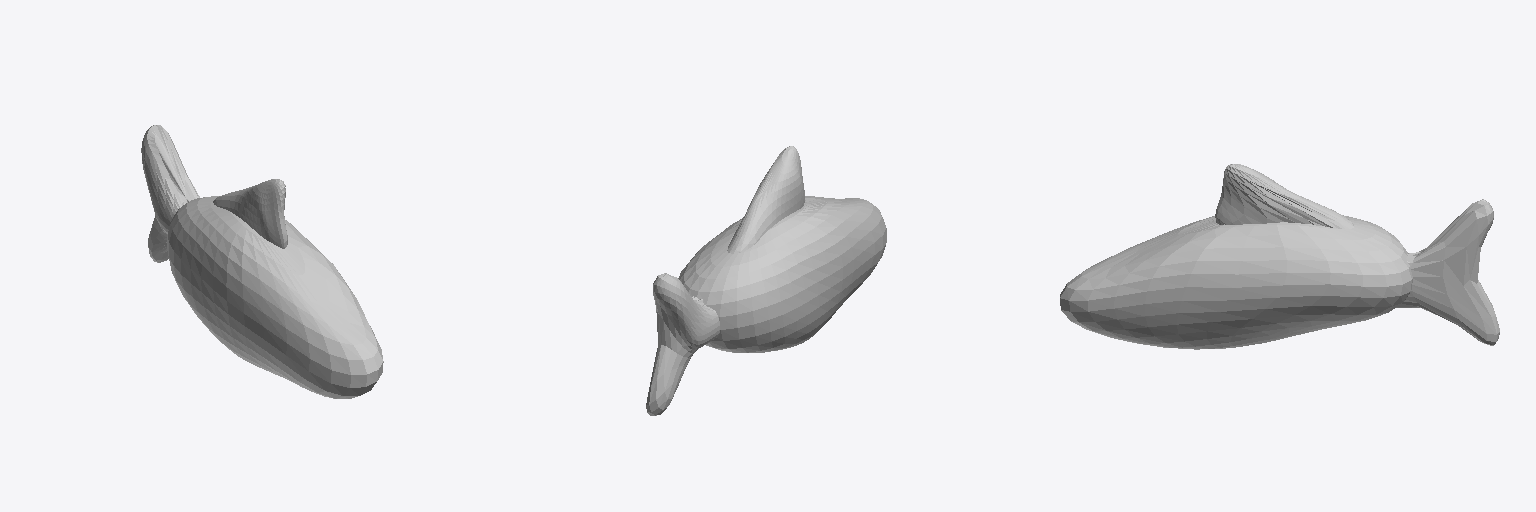
File: fish sculpt.obj
The picture shows the model from 3 angles: view 1: azimuth 30°, elevation 25°; view 2: azimuth 150°, elevation 25°; view 3: azimuth 270°, elevation 25°; orthographic projection.
Parts seen in each view (by area): view 1: Sphere, Sphere.001, Sphere.002; view 2: Sphere, Sphere.001, Sphere.002; view 3: Sphere, Sphere.001, Sphere.002.
Boxes of the visible parts, <box> form: Sphere: <box>167,196,383,398</box>; Sphere.001: <box>141,125,199,262</box>; Sphere.002: <box>213,179,287,248</box>; Sphere: <box>678,196,886,352</box>; Sphere.001: <box>646,273,719,415</box>; Sphere.002: <box>727,146,804,253</box>; Sphere: <box>1060,215,1412,349</box>; Sphere.001: <box>1396,199,1499,345</box>; Sphere.002: <box>1215,164,1353,228</box>.
Size of the model in its own units: 1.08 by 1.82 by 3.93.